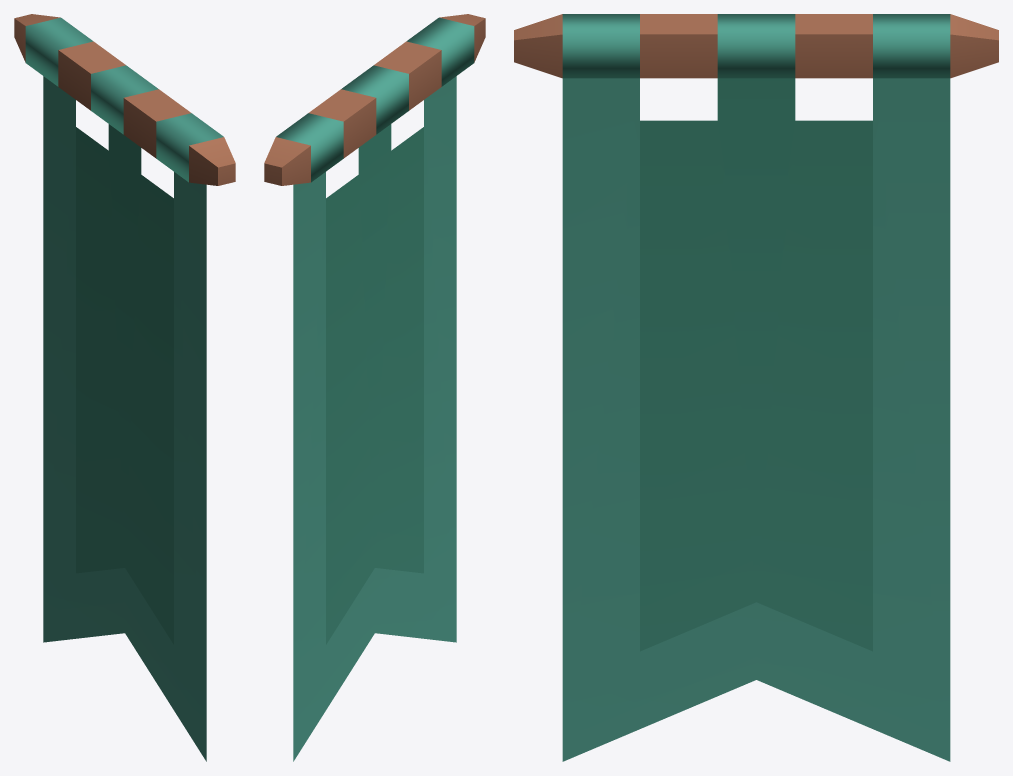
Rendered from T_banner-green.glb.
3 renders of one model, left to right at view 1: azimuth 30°, elevation 25°; view 2: azimuth 150°, elevation 25°; view 3: azimuth 270°, elevation 25°, orthographic. The views are drawn at different scales.
Parts seen in each view (by area): view 1: banner-green; view 2: banner-green; view 3: banner-green.
Boxes of the visible parts, <box> form: banner-green: <box>14,14,235,761</box>; banner-green: <box>264,14,485,761</box>; banner-green: <box>514,14,998,761</box>.
Bounding box in the file's own units: 0.05 × 0.8394 × 0.5.
